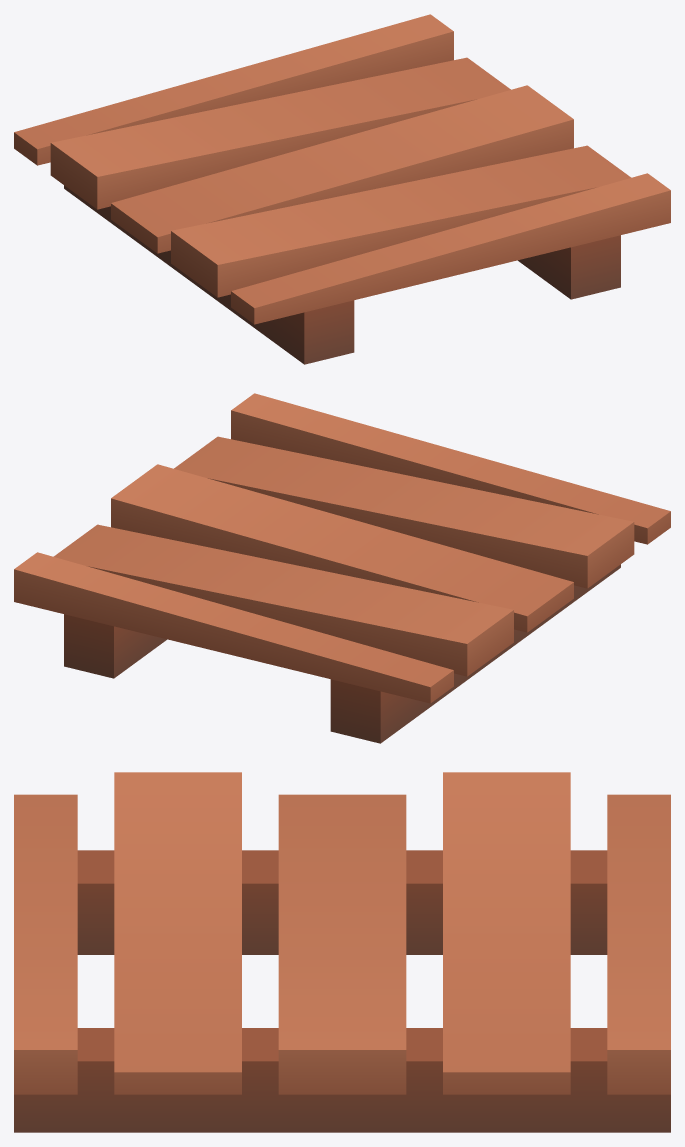
Rendered from platform.glb.
3 views of the same model, one above another, from view 1: azimuth 30°, elevation 25°; view 2: azimuth 150°, elevation 25°; view 3: azimuth 270°, elevation 25° (orthographic). The views are drawn at different scales.
Visible parts, largest first — view 1: platform; view 2: platform; view 3: platform.
Boxes of the visible parts, x1=… form: platform: x1=14, y1=14, x2=670, y2=364; platform: x1=14, y1=393, x2=670, y2=743; platform: x1=14, y1=772, x2=670, y2=1132.
Bounding box in the file's own units: 2 × 0.3899 × 2.
Materials: 1 (1 with a texture image).
